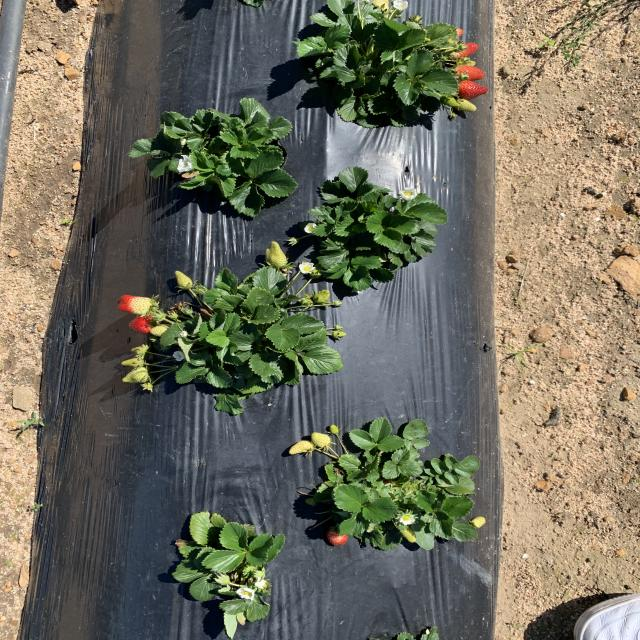unripe: (456, 80, 489, 100), (128, 314, 158, 335), (449, 42, 481, 59), (453, 64, 486, 80)
